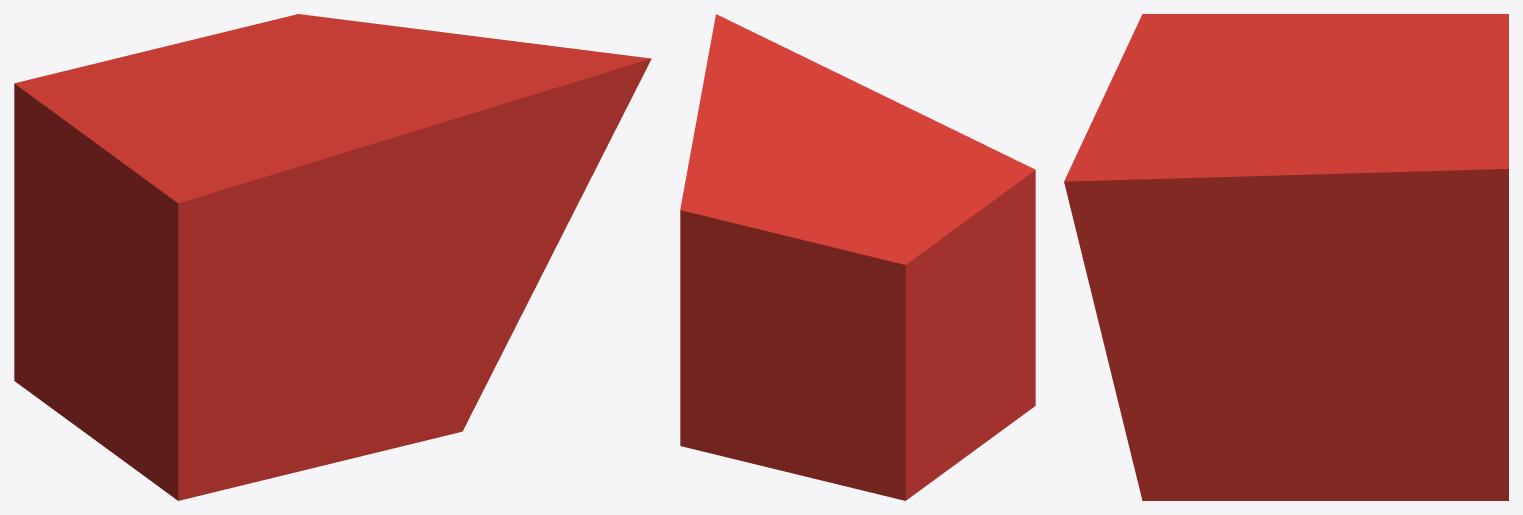
3 views of the same model, side by side, from view 1: azimuth 30°, elevation 25°; view 2: azimuth 150°, elevation 25°; view 3: azimuth 270°, elevation 25° (orthographic). The views are drawn at different scales.
Visible parts, largest first — view 1: Cube; view 2: Cube; view 3: Cube.
Part boxes in pixels (x1,y1,x2,y2): Cube: (14, 14, 651, 500); Cube: (680, 14, 1035, 500); Cube: (1064, 14, 1508, 500).
Bounding box in the file's own units: 308 × 243 × 243.
